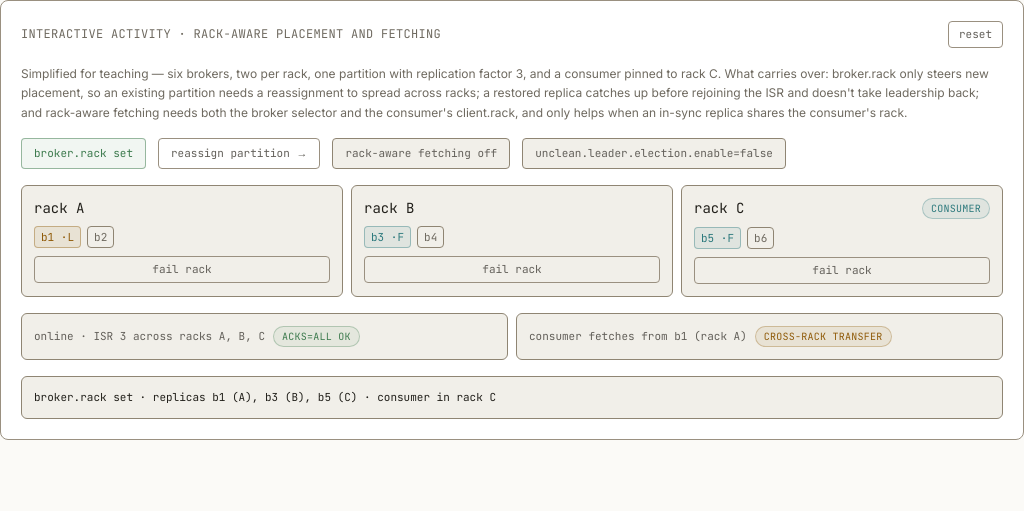
Test: RackPlacementDemo › a restored rack catches up before rejoining the ISR and leadership does not move back
Click the button "fail rack" below "·L" at (182, 269), box x1=34 y1=256 x2=330 y2=282
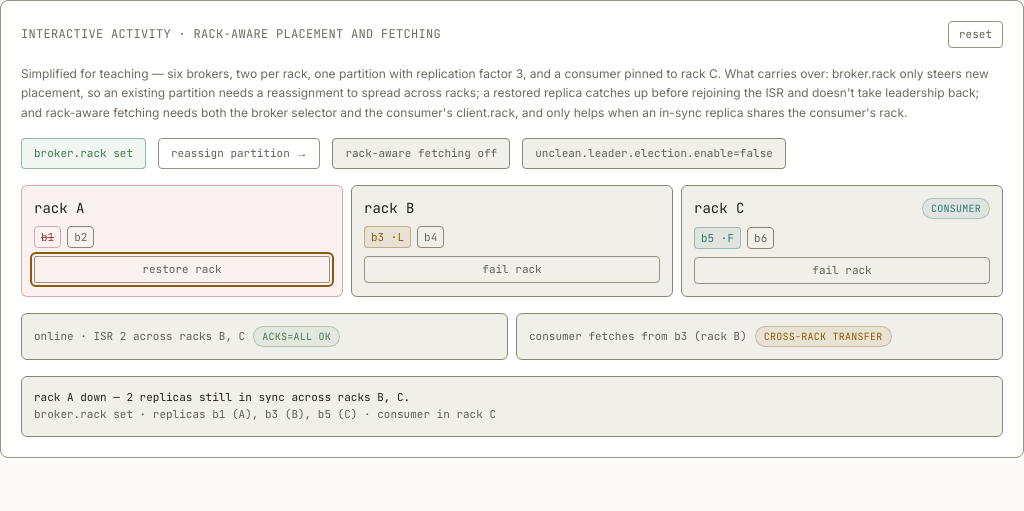
Now the text "b3 ·L" is shown, box x1=364 y1=226 x2=411 y2=248
Click the button "restore rack" at (182, 269), box x1=34 y1=256 x2=330 y2=282
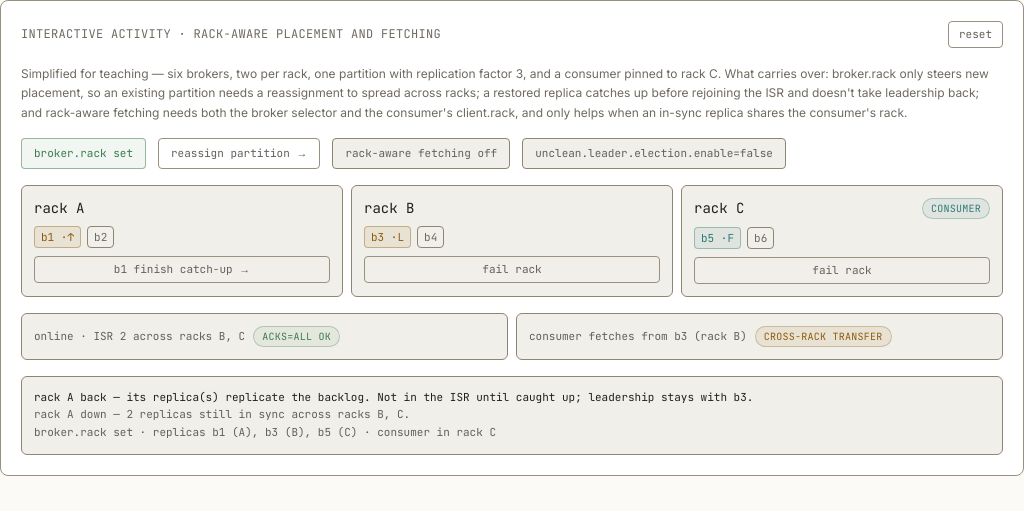
Now the text with test id "partition-status" shows "ISR 2 across racks B, C", box x1=34 y1=329 x2=245 y2=343
Now the text "b1 ·↑" is shown, box x1=34 y1=226 x2=81 y2=248
Click the button "b1 finish catch-up →" at (182, 269), box x1=34 y1=256 x2=330 y2=282
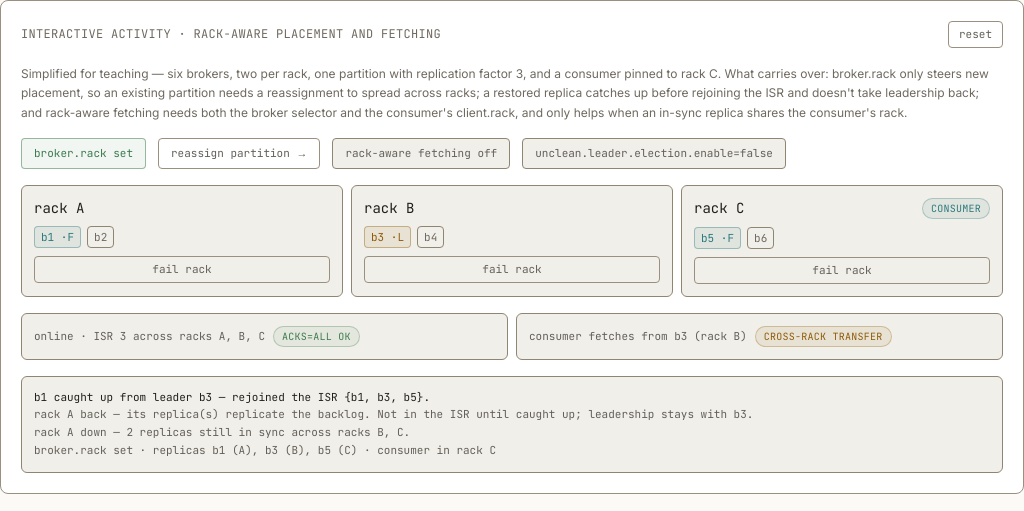
Now the text "b3 ·L" is shown, box x1=364 y1=226 x2=411 y2=248
Now the text with test id "partition-status" shows "ISR 3 across racks A, B, C", box x1=34 y1=329 x2=265 y2=343
